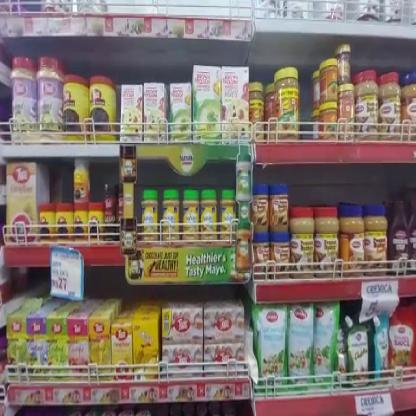Nutralite ACHARI MAYO 300g-275g-25g-: (201, 187, 218, 242), (221, 188, 236, 241)
Nutralite CHEESY GARLIC MAYO 300g-275g-25g-: (141, 187, 159, 242), (162, 188, 180, 243), (184, 192, 199, 244)
